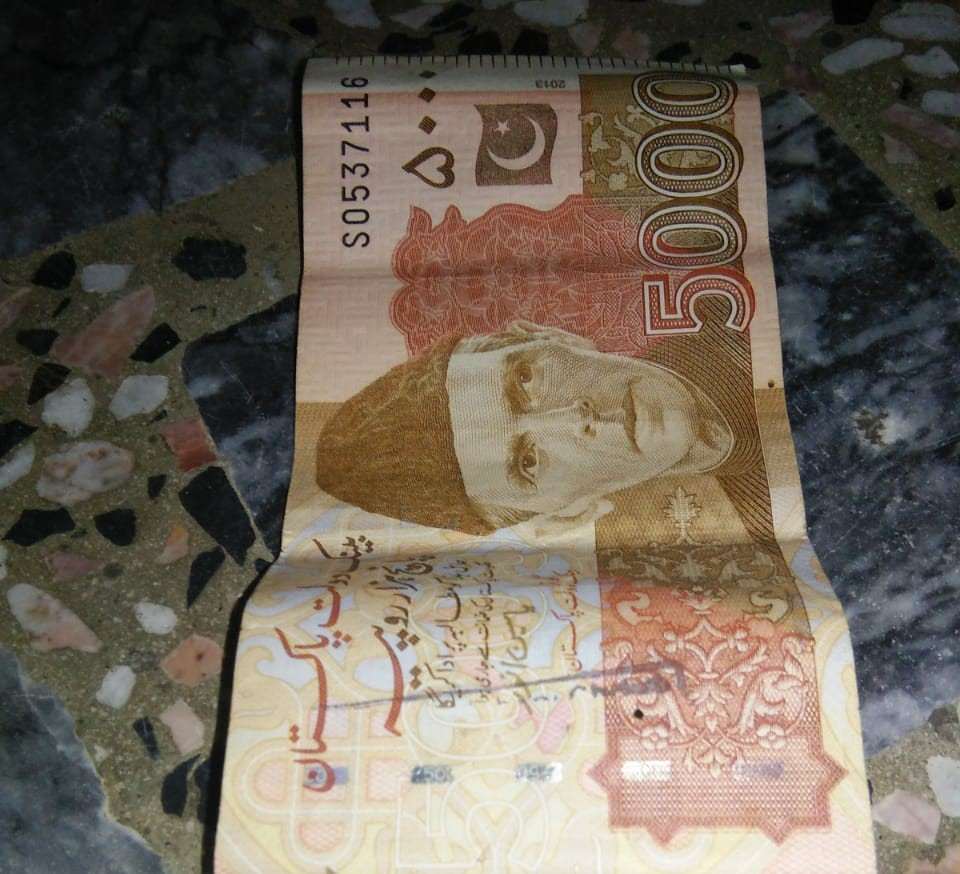5000 rupee: (212, 56, 897, 854)
